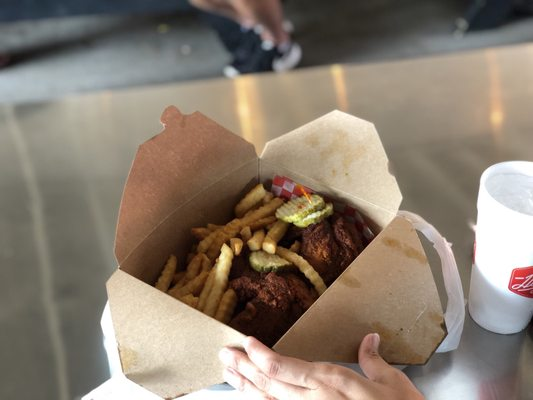pizza: (467, 160, 533, 335)
soup: (154, 110, 405, 350), (272, 211, 467, 369)
